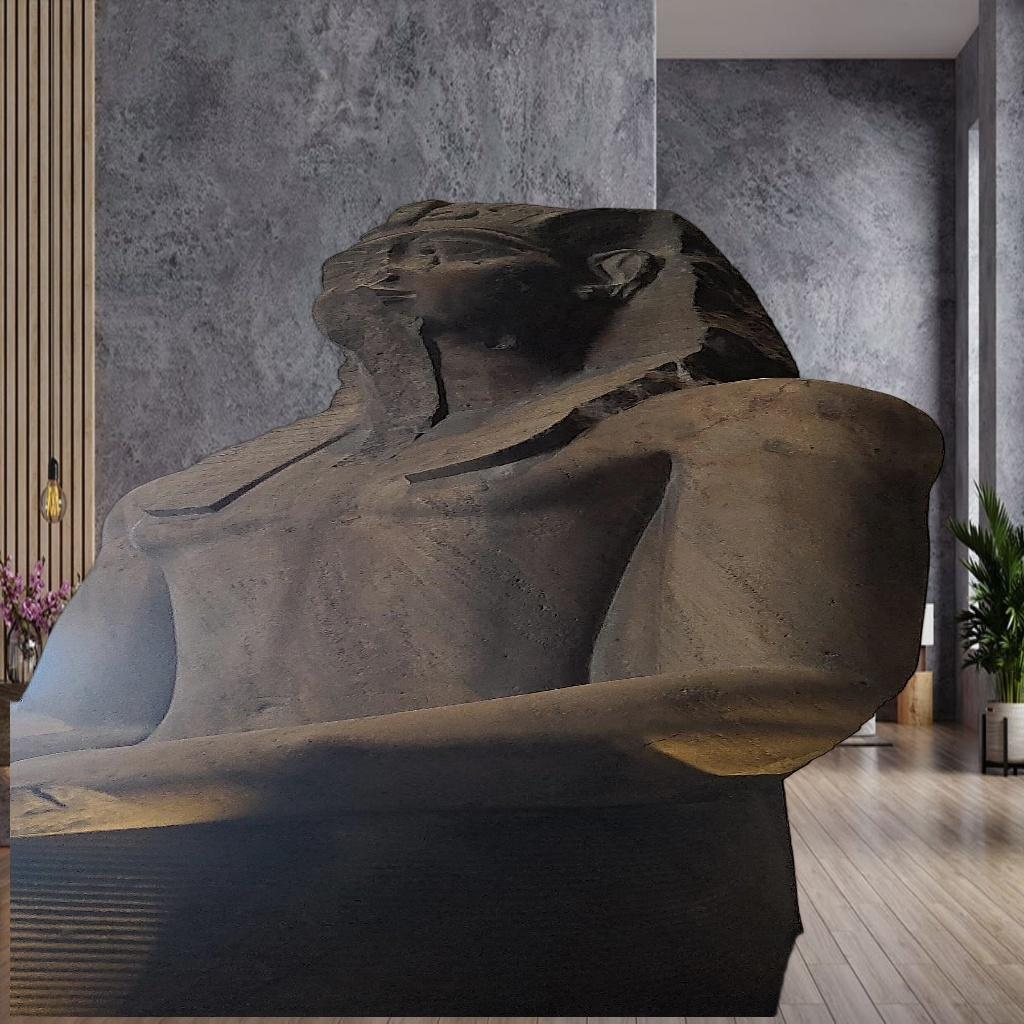Colossal Statue of Middle Kingdom King: (10, 194, 987, 1017)
